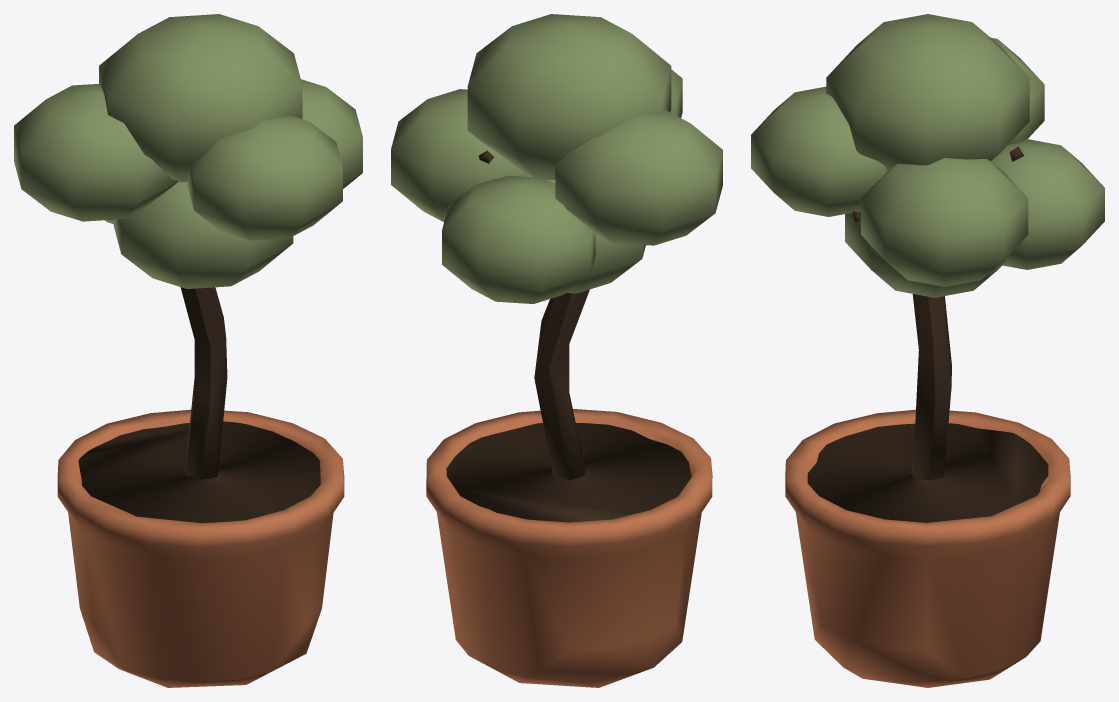
Rendered from potted_olive.glb.
3 views of the same model, side by side, from view 1: azimuth 30°, elevation 25°; view 2: azimuth 150°, elevation 25°; view 3: azimuth 270°, elevation 25° (orthographic).
Parts seen in each view (by area): view 1: potted_olive; view 2: potted_olive; view 3: potted_olive.
Part boxes in pixels (left/top/right/bottom): potted_olive: left=14, top=14, right=362, bottom=687; potted_olive: left=391, top=14, right=722, bottom=687; potted_olive: left=751, top=14, right=1104, bottom=687.
Size of the model in its own units: 1.13 by 2.09 by 1.07.
